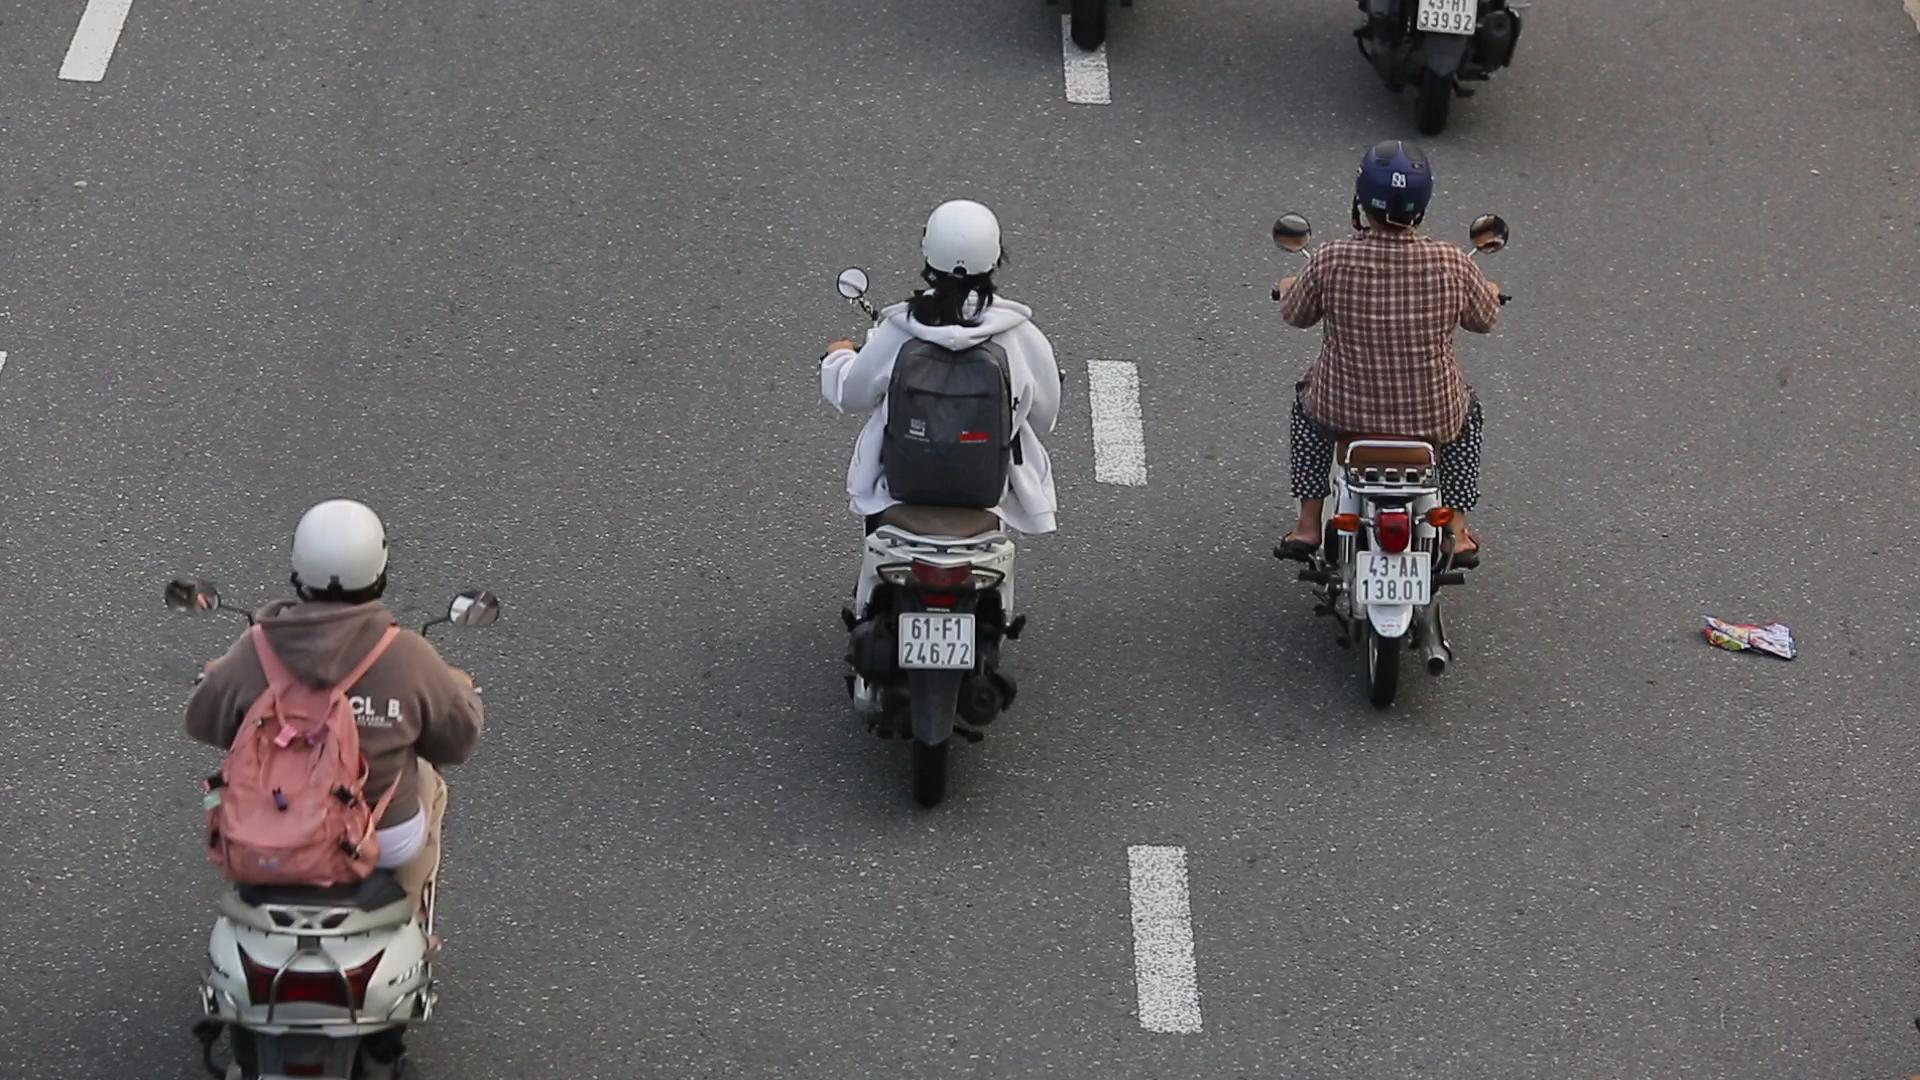motobike: (808, 187, 1062, 808), (1261, 142, 1518, 725)
